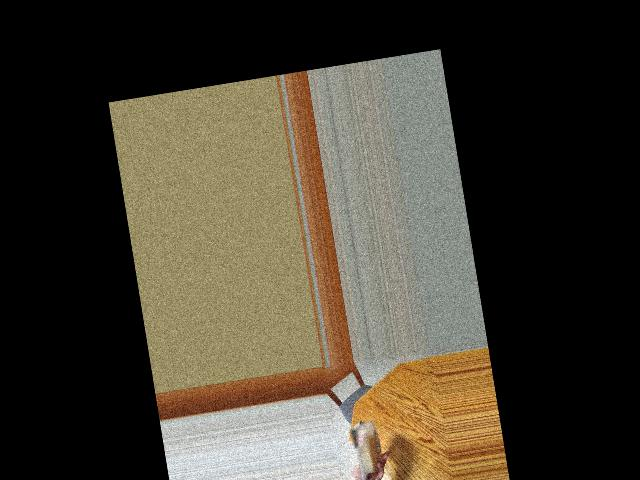cheese: (344, 419, 390, 477)
